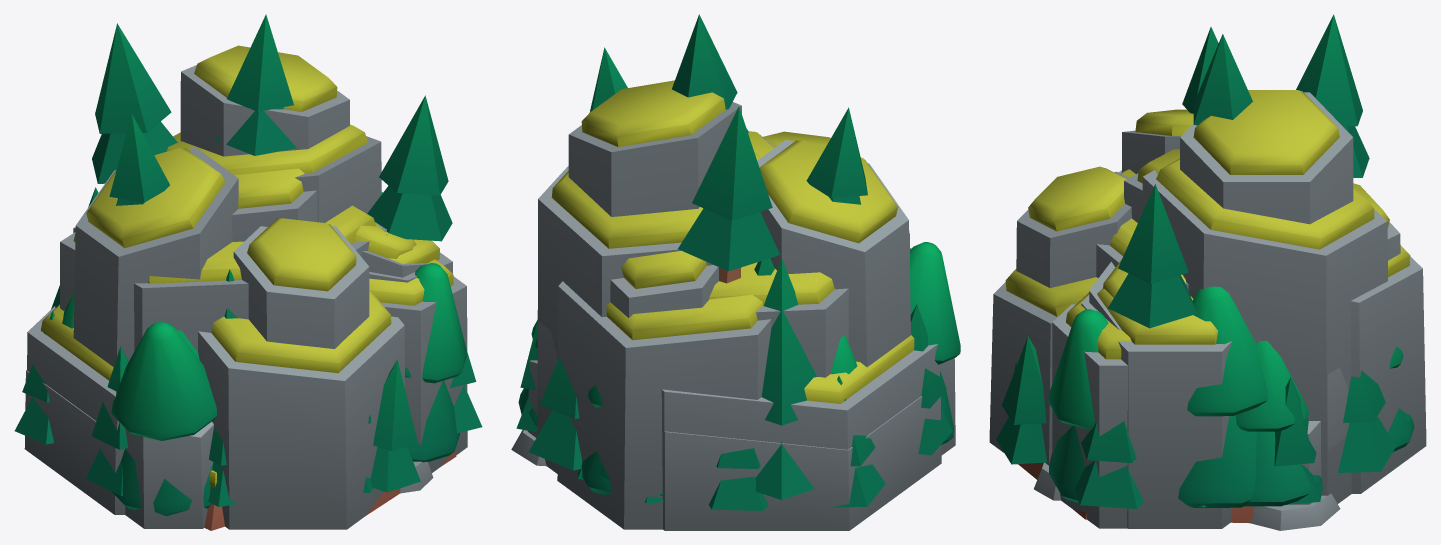
Rendered from forest.glb.
3 renders of one model, left to right at view 1: azimuth 30°, elevation 25°; view 2: azimuth 150°, elevation 25°; view 3: azimuth 270°, elevation 25°, orthographic. The views are drawn at different scales.
Visible parts, largest first — view 1: mountain_C, mountain_A_grass_trees, mountain_C_grass, mountain_A, trees_B_large, mountain_B, trees_A_large, mountain_B_grass, mountain_A_grass, hills_B; view 2: mountain_C, mountain_B, mountain_A, mountain_A_grass_trees, mountain_C_grass, mountain_B_grass, trees_A_large, hills_C_trees, trees_B_large, mountain_A_grass, trees_B_medium, hills_A; view 3: mountain_B, mountain_C, mountain_B_grass, mountain_A_grass_trees, trees_A_large, trees_B_large, trees_B_medium, mountain_C_grass, mountain_A, hills_A, mountain_A_grass, hills_C.
Part boxes in pixels (<box>): mountain_C: <box>73,147,466,529</box>; mountain_A_grass_trees: <box>92,14,452,241</box>; mountain_C_grass: <box>86,148,416,373</box>; mountain_A: <box>24,190,467,514</box>; trees_B_large: <box>62,263,466,516</box>; mountain_B: <box>27,65,452,469</box>; trees_A_large: <box>14,310,482,506</box>; mountain_B_grass: <box>40,45,439,380</box>; mountain_A_grass: <box>73,168,453,305</box>; hills_B: <box>204,470,224,530</box>; mountain_C: <box>527,139,955,529</box>; mountain_B: <box>537,102,939,529</box>; mountain_A: <box>538,139,941,530</box>; mountain_A_grass_trees: <box>589,14,867,283</box>; mountain_C_grass: <box>606,131,897,340</box>; mountain_B_grass: <box>551,80,914,403</box>; trees_A_large: <box>516,304,952,510</box>; hills_C_trees: <box>577,259,816,503</box>; trees_B_large: <box>518,242,960,495</box>; mountain_A_grass: <box>709,131,834,305</box>; trees_B_medium: <box>578,385,612,494</box>; hills_A: <box>511,430,546,466</box>; mountain_B: <box>1081,92,1387,528</box>; mountain_C: <box>989,130,1426,526</box>; mountain_B_grass: <box>1097,90,1374,344</box>; mountain_A_grass_trees: <box>1108,14,1369,328</box>; trees_A_large: <box>996,336,1395,508</box>; trees_B_large: <box>1014,309,1413,506</box>; trees_B_medium: <box>1178,286,1414,507</box>; mountain_C_grass: <box>1005,109,1410,316</box>; mountain_A: <box>1052,170,1349,528</box>; hills_A: <box>1034,462,1340,530</box>; mountain_A_grass: <box>1066,149,1179,359</box>; hills_C: <box>1018,452,1253,523</box>.
Size of the model in its own units: 1.95 by 2.28 by 2.02.
1 material, 1 textured.
